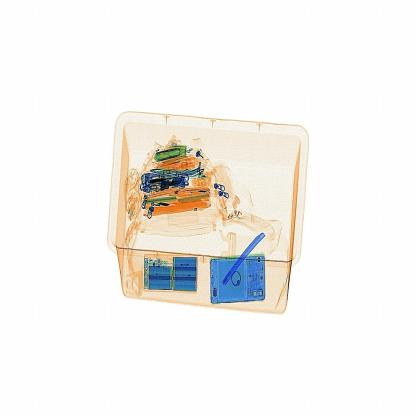pliers: (221, 221, 273, 288)
